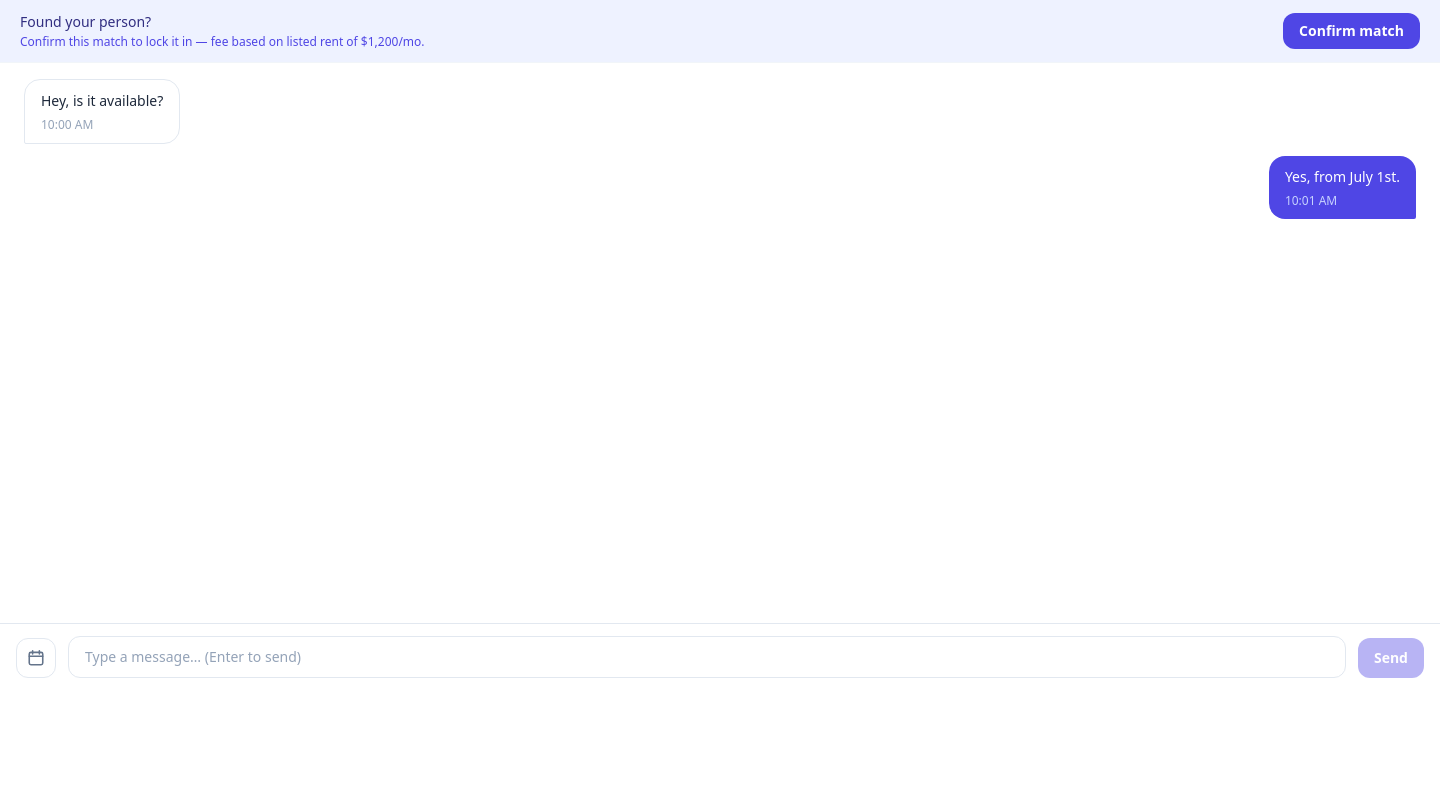
propose-a-time button › closes the modal on Cancel
Click the button named "propose a time" at (36, 658), box [16, 638, 56, 678]
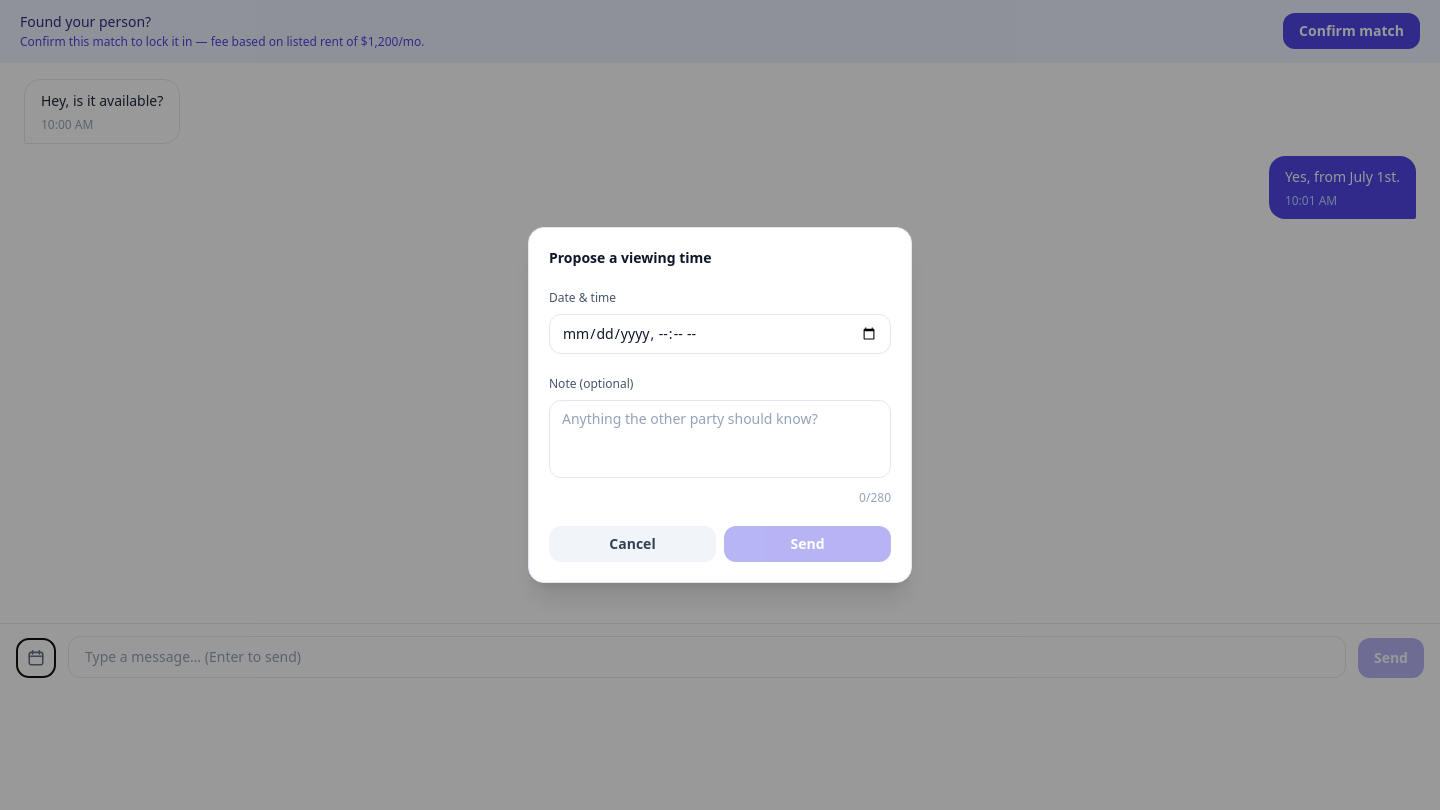
Click the button "Cancel" at (632, 544), box [549, 526, 716, 562]
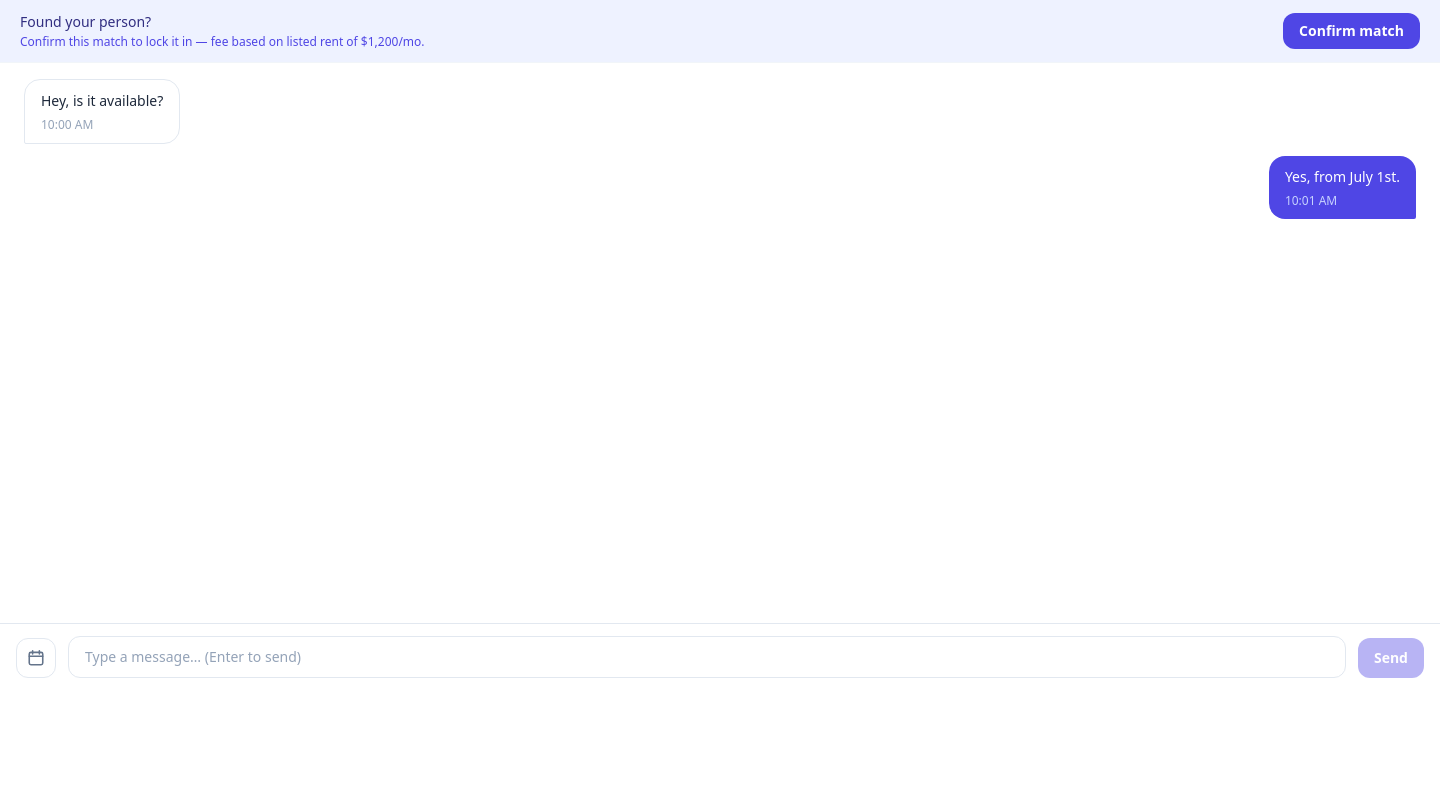
Result: the heading "Propose a viewing time" is gone
